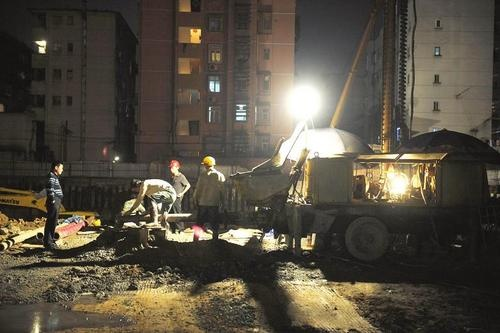none: (49, 158, 64, 176), (129, 177, 142, 193)
red: (167, 157, 180, 175)
yellow: (202, 154, 216, 170)
